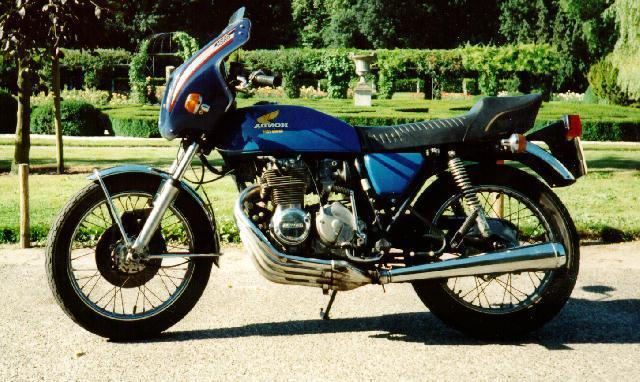motorcycle: (35, 2, 590, 360)
